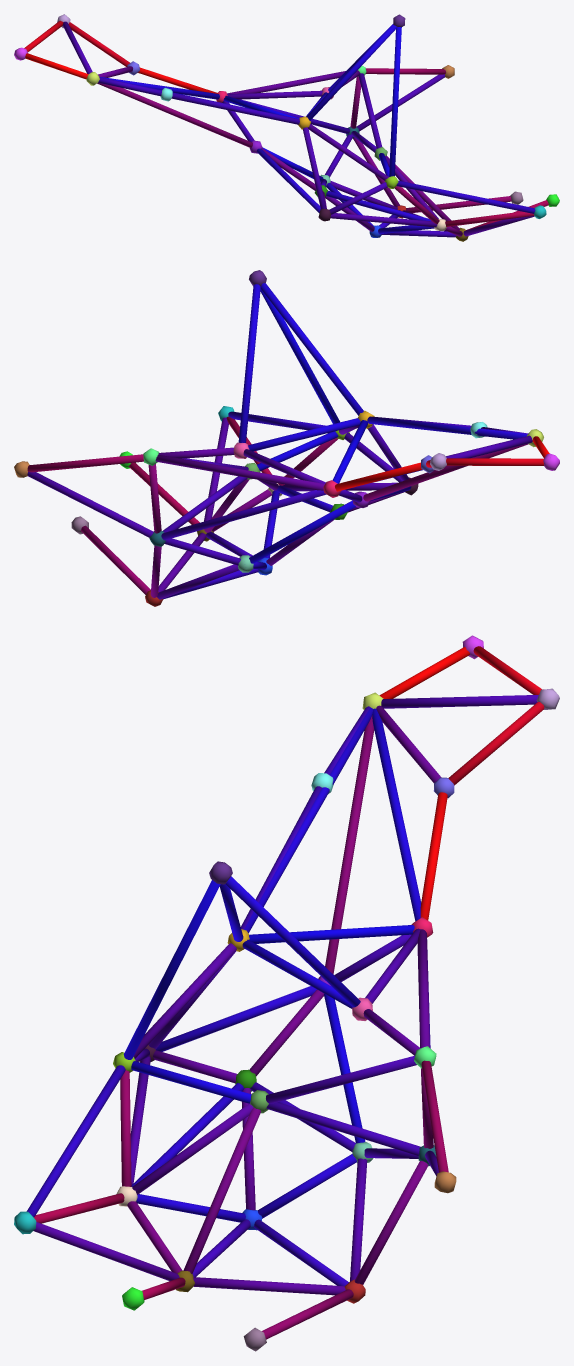
The model's file is fg-00329-skel.obj.
The picture shows the model from 3 angles, top to bottom: view 1: azimuth 30°, elevation 25°; view 2: azimuth 150°, elevation 25°; view 3: azimuth 270°, elevation 25°; orthographic projection. The views are drawn at different scales.
Bounding box in the file's own units: 0.3533 × 0.1839 × 0.2248.
Materials: 1 (1 with a texture image).
